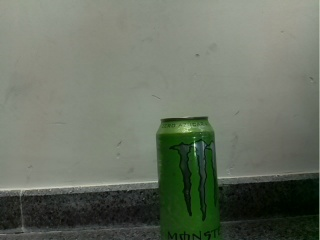botella plastico: (155, 116, 220, 240)
